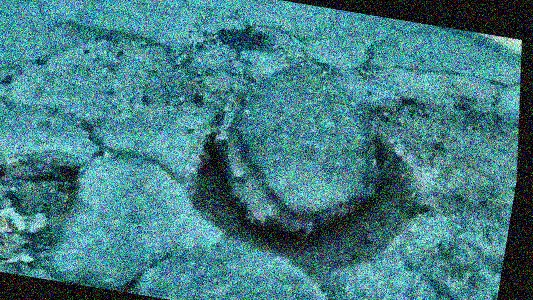pothole: (162, 79, 453, 300), (0, 136, 104, 285)
